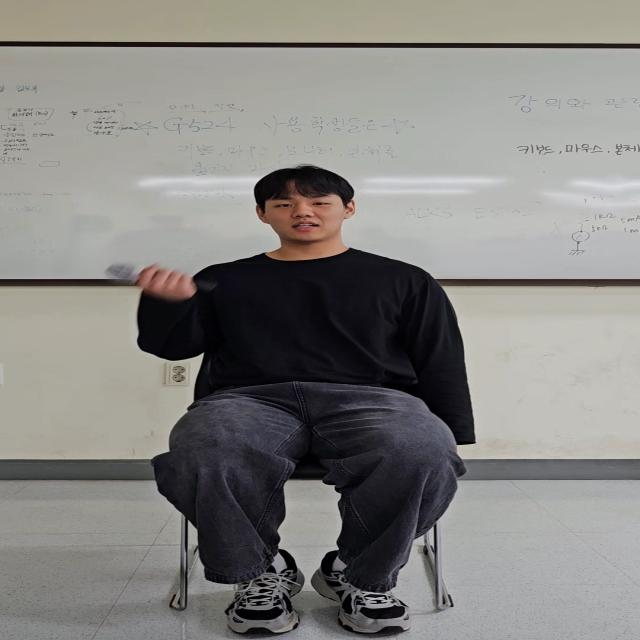curl: (131, 256, 248, 376)
